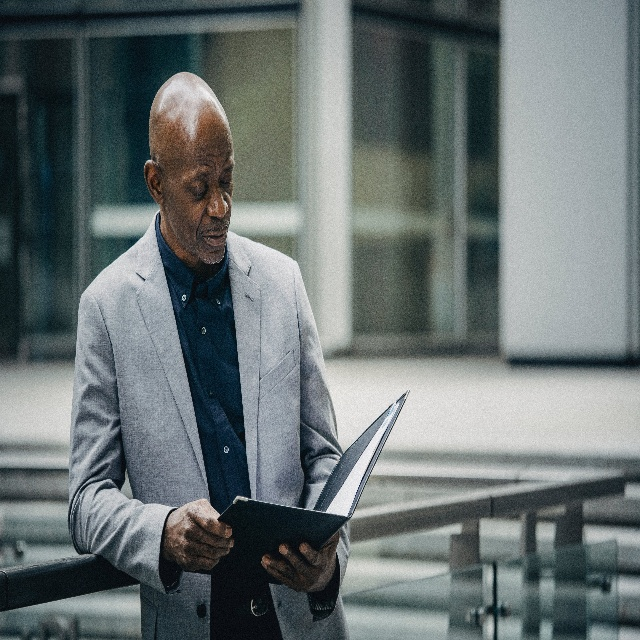Sin_guantes: (260, 528, 340, 597), (163, 497, 235, 573)
